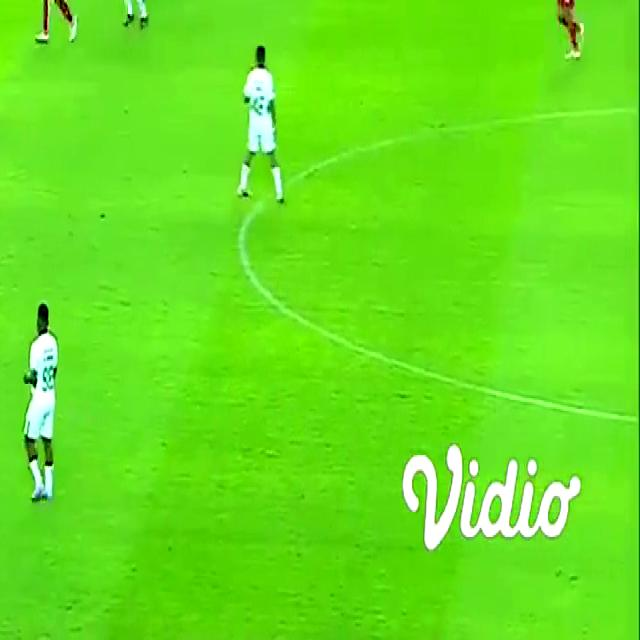soccer-player: (9, 296, 76, 514), (225, 35, 293, 212), (538, 0, 594, 73), (22, 0, 86, 55), (109, 0, 157, 37)
